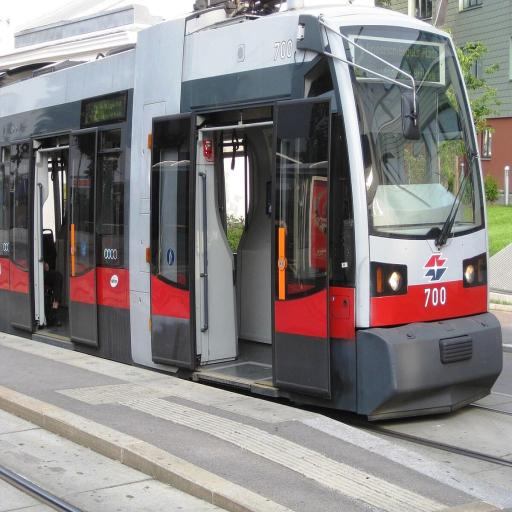ULF: (0, 3, 492, 424)
